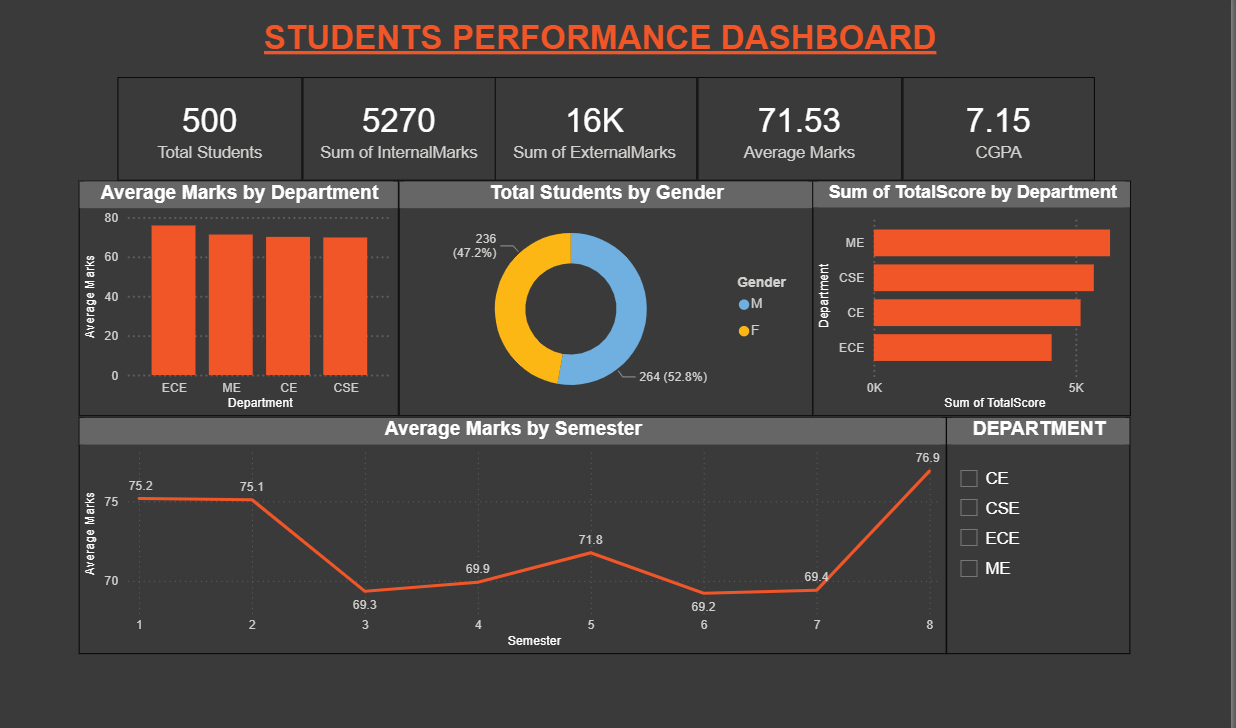

Layout of this report page (visuals, bound fields, positions):
{"tool":"powerbi","page":{"name":"Page 1","canvas":[1280,720],"ordinal":0},"visuals":[{"type":"card","fields":{"Values":["Marks.Total Students"]},"box":[205,82.5,178.8,100],"z":0},{"type":"card","fields":{"Values":["Marks.Average Marks"]},"box":[765,82.5,197.5,100],"z":1000},{"type":"clusteredColumnChart","fields":{"Category":["Students.Department"],"Y":["Marks.Average Marks"]},"box":[167.5,182.5,308.8,227.5],"z":2000},{"type":"lineChart","fields":{"Category":["Students.Semester"],"Y":["Marks.Average Marks"]},"box":[167.5,410,837.5,228.8],"z":3000},{"type":"donutChart","fields":{"Category":["Students.Gender"],"Y":["Marks.Total Students"]},"box":[476.2,182.5,400,227.5],"z":4000},{"type":"slicer","title":"DEPARTMENT","fields":{"Values":["Students.Department"]},"box":[1005.6,410,177.8,228.9],"z":5000},{"type":"card","fields":{"Values":["Marks.CGPA"]},"box":[962.5,82.5,186.2,101.2],"z":6000},{"type":"textbox","box":[336.2,21.2,668.8,58.8],"z":7000},{"type":"card","fields":{"Values":["Sum(Marks.ExternalMarks)"]},"box":[567.5,82.5,197.5,100],"z":8000},{"type":"card","fields":{"Values":["Sum(Marks.InternalMarks)"]},"box":[383.3,82.2,186.7,100],"z":9000},{"type":"clusteredBarChart","fields":{"Category":["Students.Department"],"Y":["Sum(Marks.TotalScore)"]},"box":[876.2,182.5,307.5,227.5],"z":10000}]}

Visuals, with their boxes on the page's 1280x720 design canvas (x1, y1, x2, y2). These are canvas units, not pixel positions in the 1236x728 screenshot, which may show the page scaled, cropped or inside an application window:
card - Marks.Total Students: {"x1": 205, "y1": 82, "x2": 384, "y2": 182}
card - Marks.Average Marks: {"x1": 765, "y1": 82, "x2": 962, "y2": 182}
clusteredColumnChart - Students.Department x Marks.Average Marks: {"x1": 168, "y1": 182, "x2": 476, "y2": 410}
lineChart - Students.Semester x Marks.Average Marks: {"x1": 168, "y1": 410, "x2": 1005, "y2": 639}
donutChart - Students.Gender x Marks.Total Students: {"x1": 476, "y1": 182, "x2": 876, "y2": 410}
"DEPARTMENT" slicer: {"x1": 1006, "y1": 410, "x2": 1183, "y2": 639}
card - Marks.CGPA: {"x1": 962, "y1": 82, "x2": 1149, "y2": 184}
textbox: {"x1": 336, "y1": 21, "x2": 1005, "y2": 80}
card - Sum(Marks.ExternalMarks): {"x1": 568, "y1": 82, "x2": 765, "y2": 182}
card - Sum(Marks.InternalMarks): {"x1": 383, "y1": 82, "x2": 570, "y2": 182}
clusteredBarChart - Students.Department x Sum(Marks.TotalScore): {"x1": 876, "y1": 182, "x2": 1184, "y2": 410}
